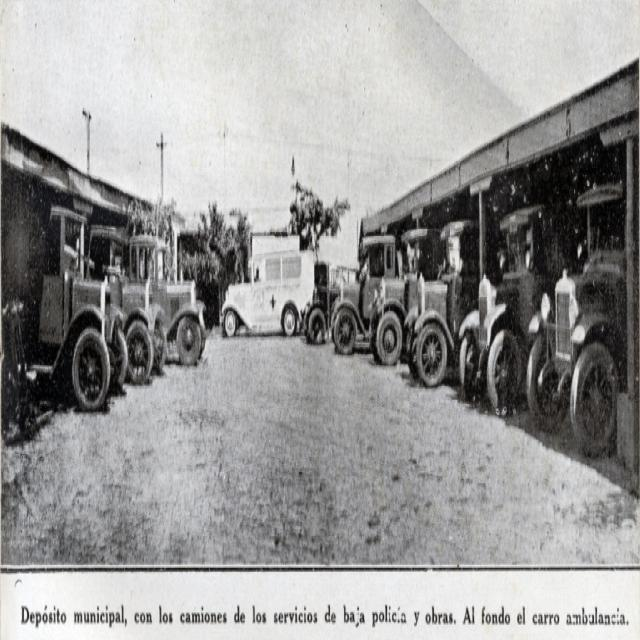Ambulance: (220, 233, 315, 336)
